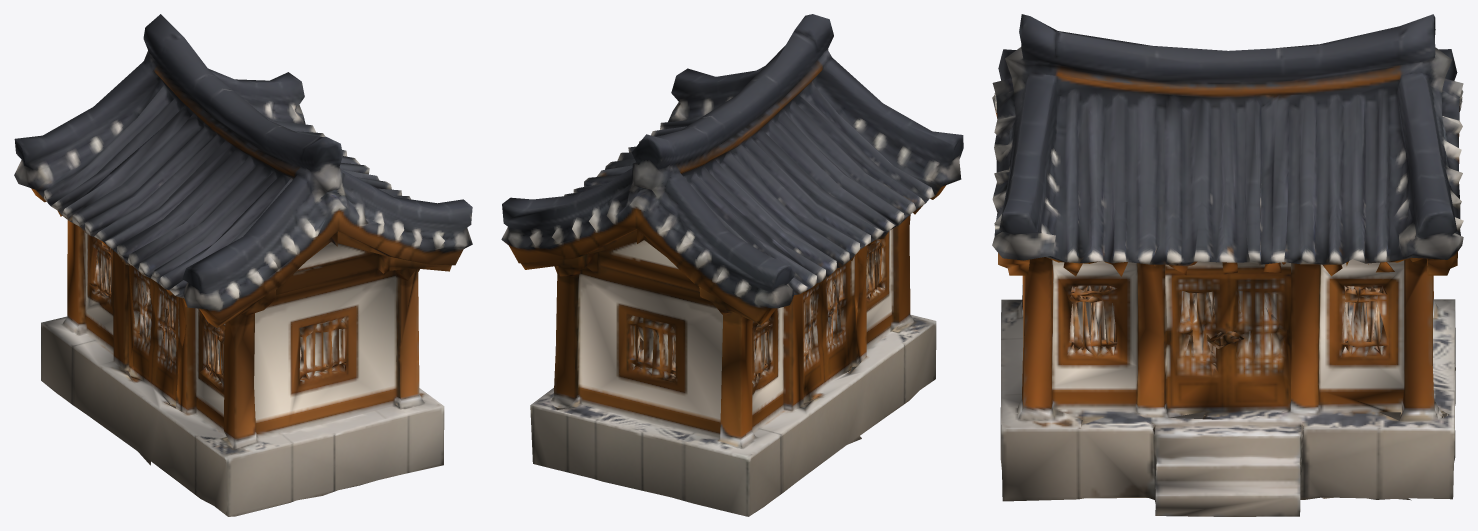
Rendered from giwa_s.glb.
3 renders of one model, left to right at view 1: azimuth 30°, elevation 25°; view 2: azimuth 150°, elevation 25°; view 3: azimuth 270°, elevation 25°, orthographic. The views are drawn at different scales.
Parts seen in each view (by area): view 1: low; view 2: low; view 3: low.
Boxes of the visible parts, x1=… form: low: x1=14, y1=14, x2=472, y2=516; low: x1=501, y1=14, x2=963, y2=516; low: x1=992, y1=14, x2=1463, y2=516.
Bounding box in the file's own units: 0.8421 × 1 × 1.
Materials: 1 (1 with a texture image).
